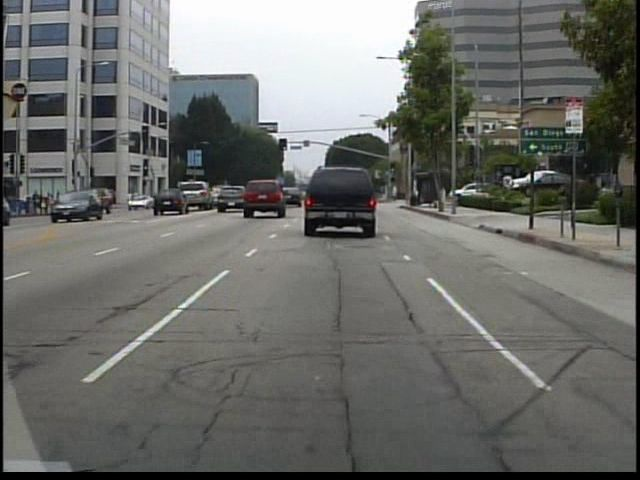person: (390, 182, 402, 203), (129, 191, 134, 210)
